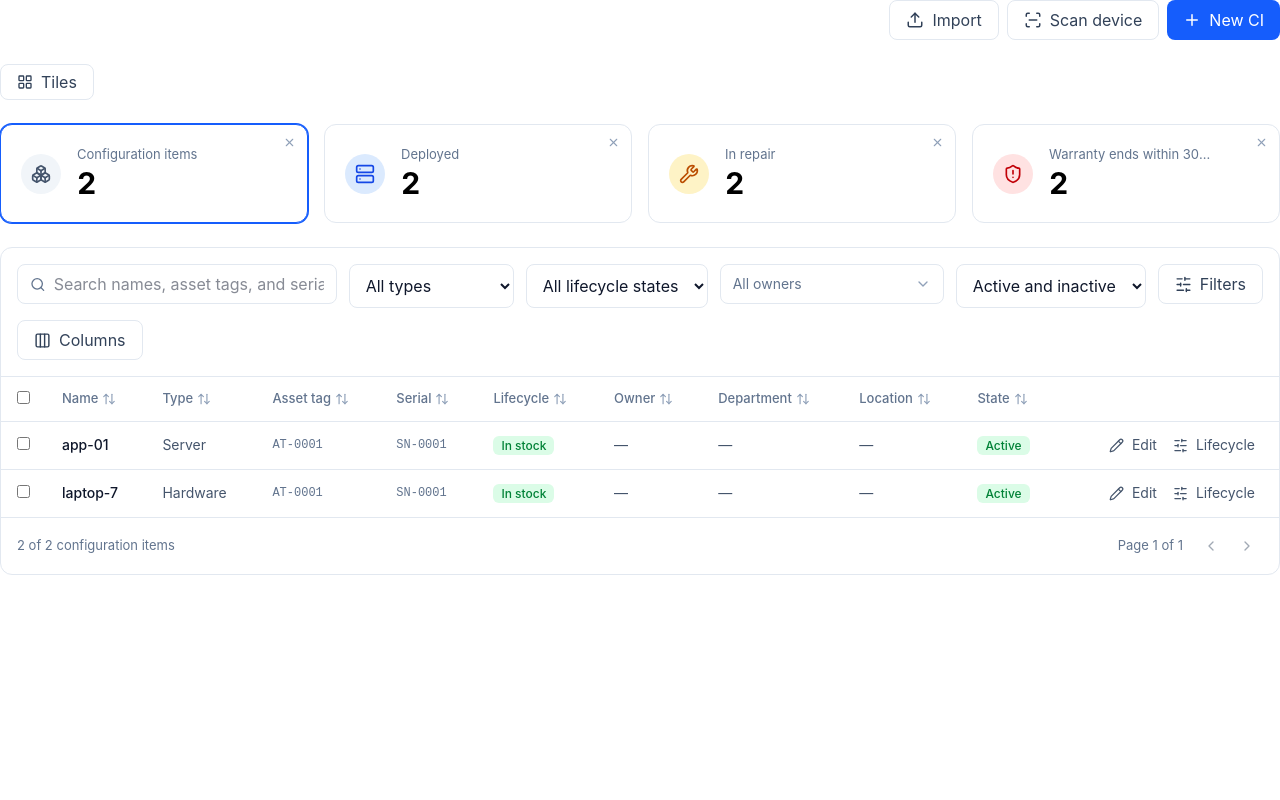
Test: CiListPage › bulk edits the selected rows and clears the selection
The width and height of the screenshot is (1280, 800).
Click the checkbox named "Select app-01": (24, 444) left=17, top=437, right=30, bottom=450
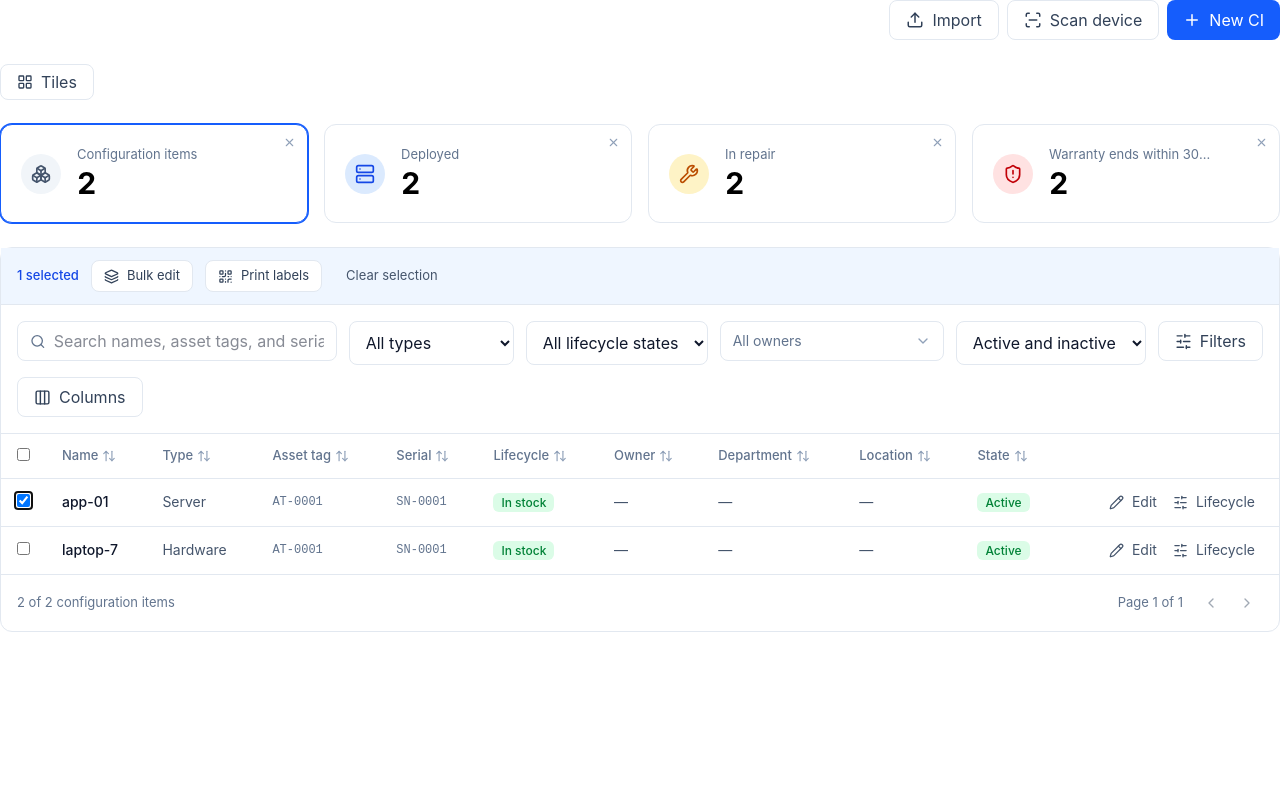
Click the checkbox named "Select laptop-7": (24, 549) left=17, top=542, right=30, bottom=555
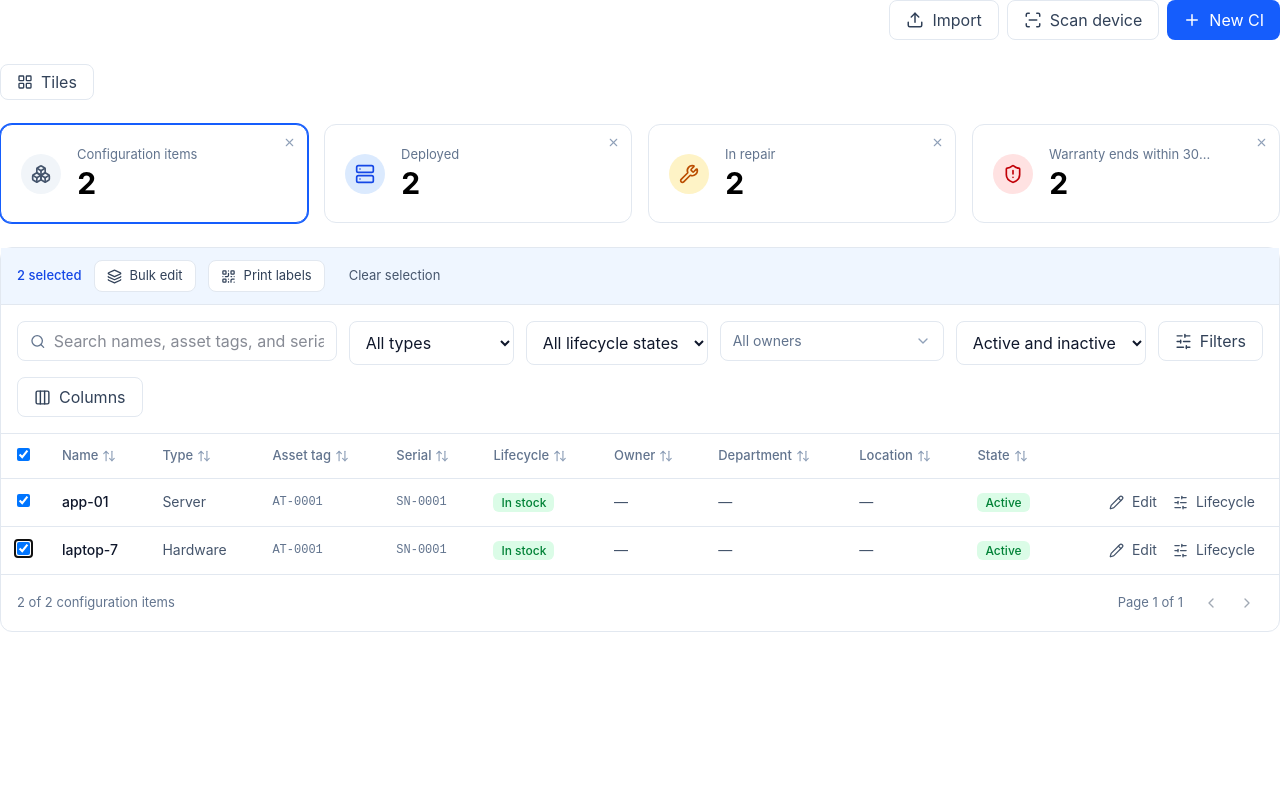
Check: the text "2 selected" is shown, box left=17, top=266, right=82, bottom=286
Click the button "Bulk edit": (145, 276) left=94, top=260, right=196, bottom=292
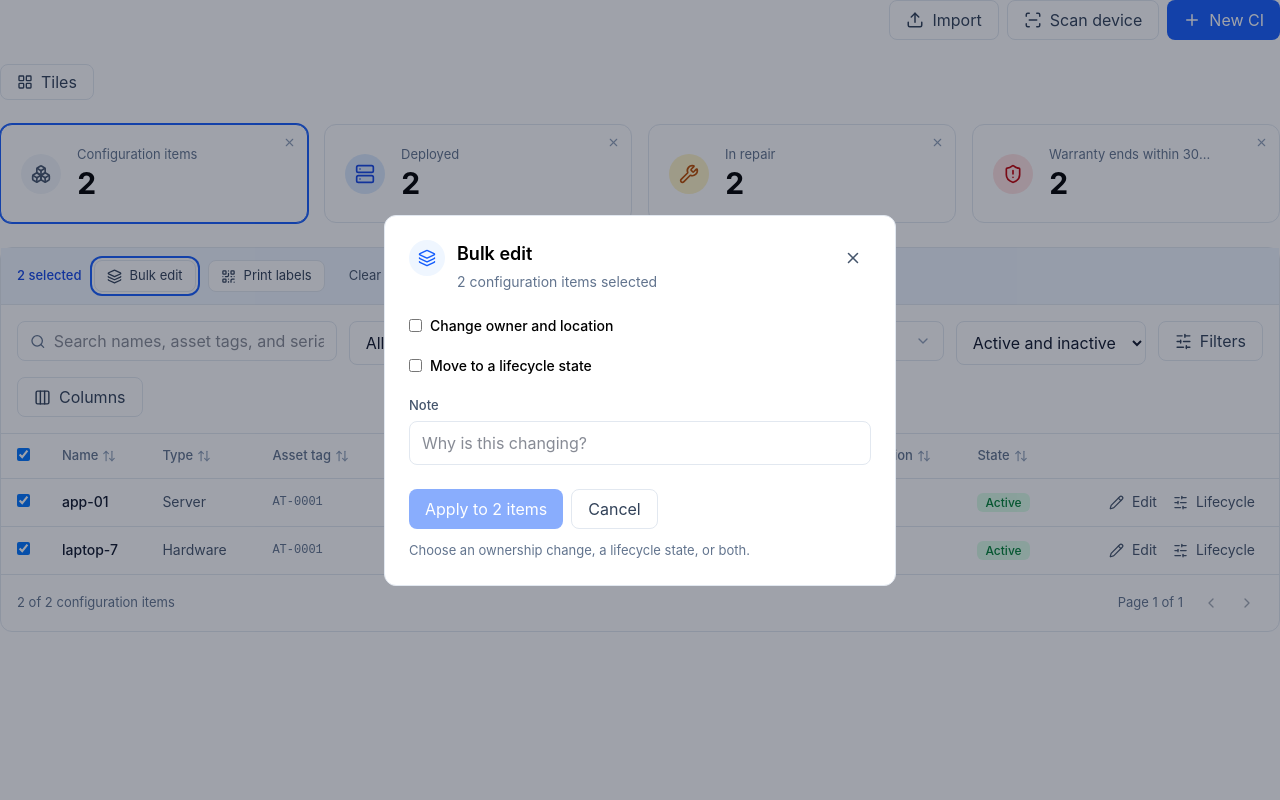
Click the checkbox labelled "Move to a lifecycle state": (416, 366) left=409, top=359, right=422, bottom=372
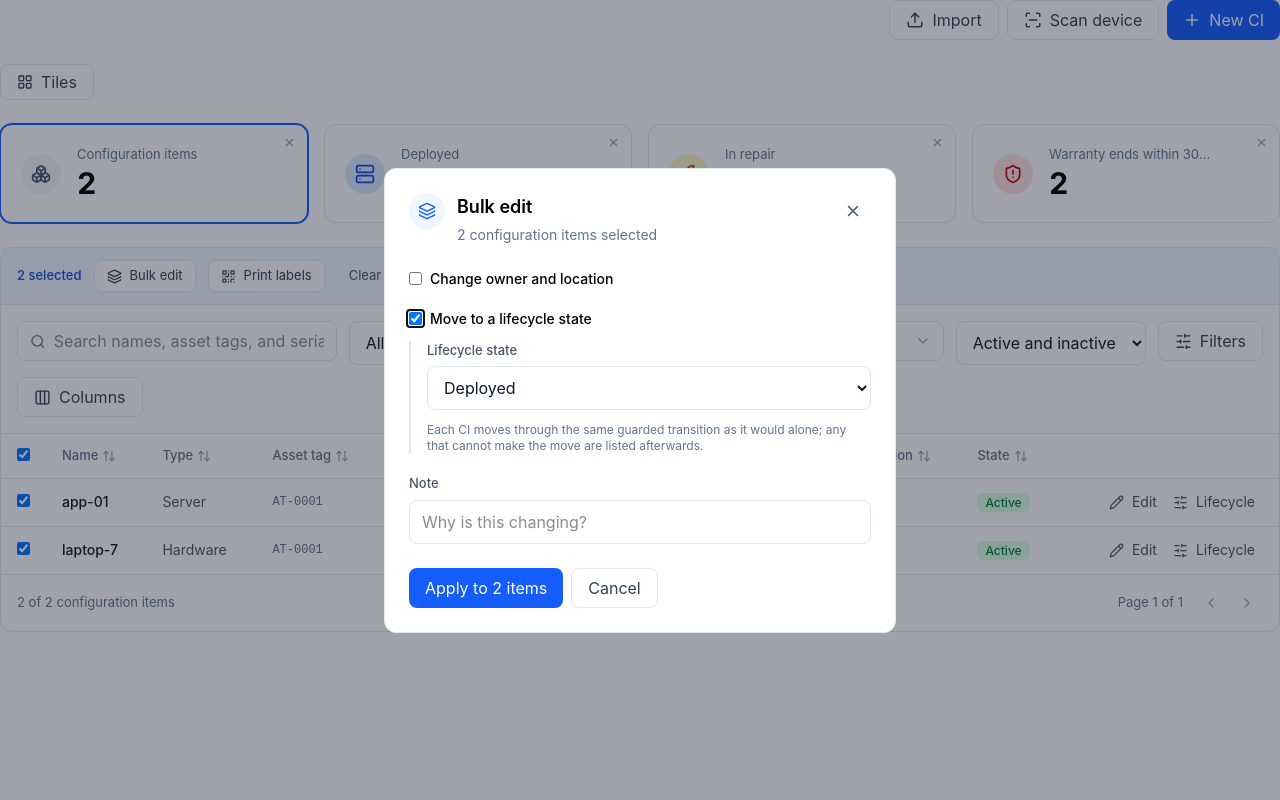
Select "Deployed" in the dropdown labelled "Lifecycle state": (649, 388) left=427, top=366, right=871, bottom=410
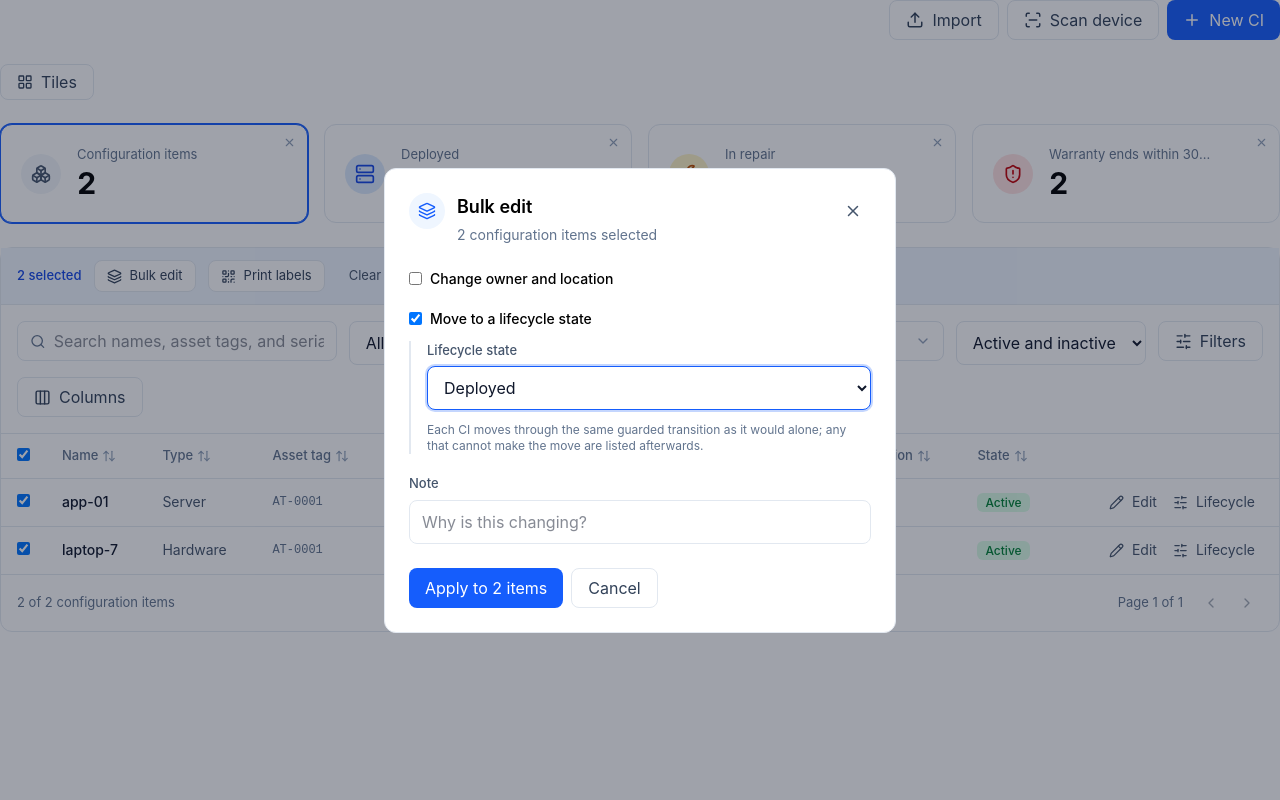
Click the button "Apply to 2 items": (486, 588) left=409, top=568, right=563, bottom=608
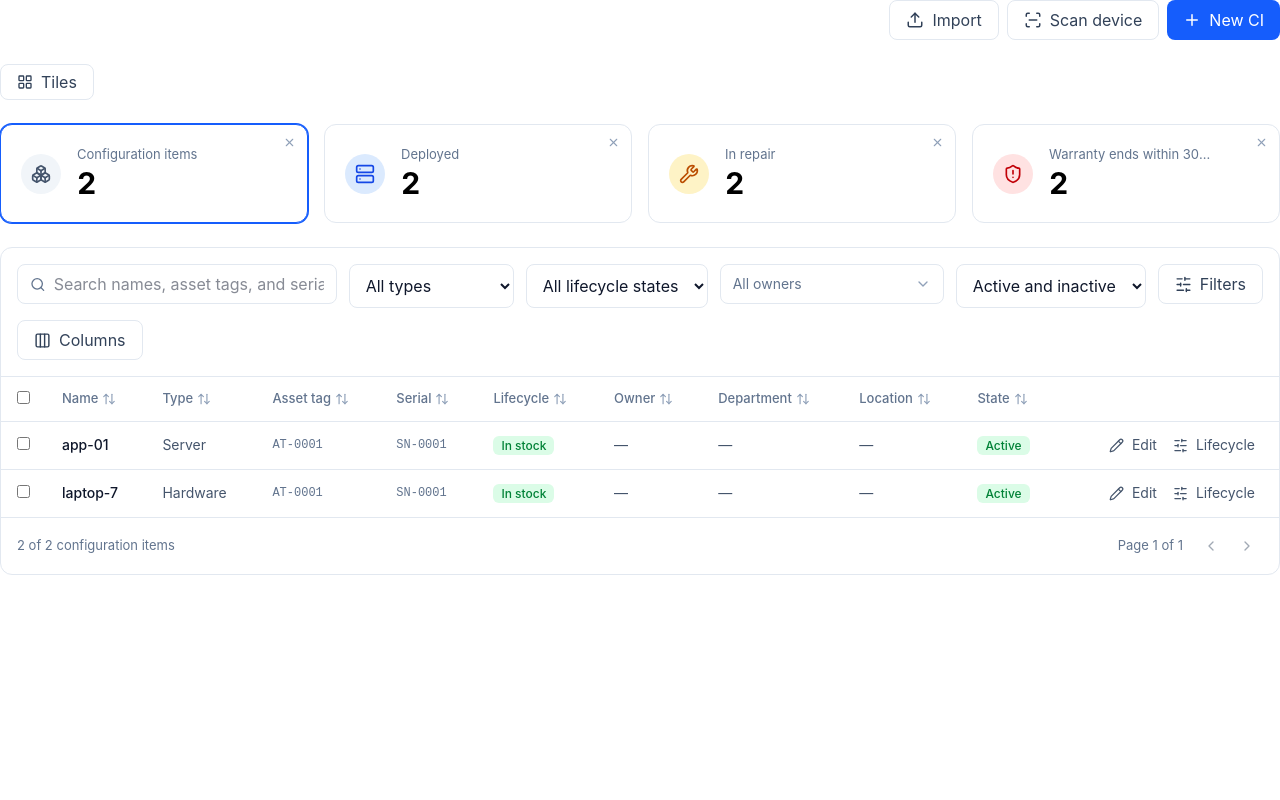
Check: the text "2 selected" is gone
